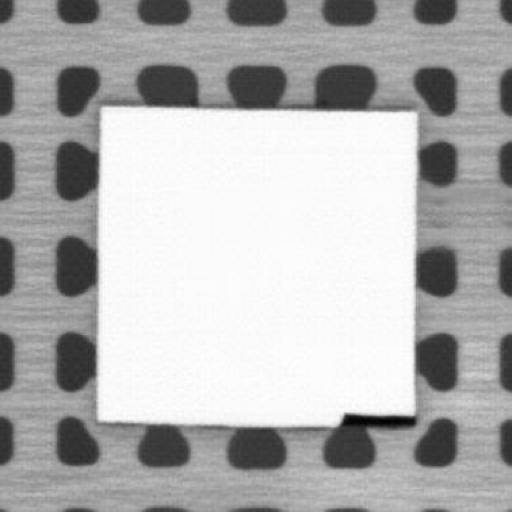DIE_BROKEN: (332, 409, 416, 430)
